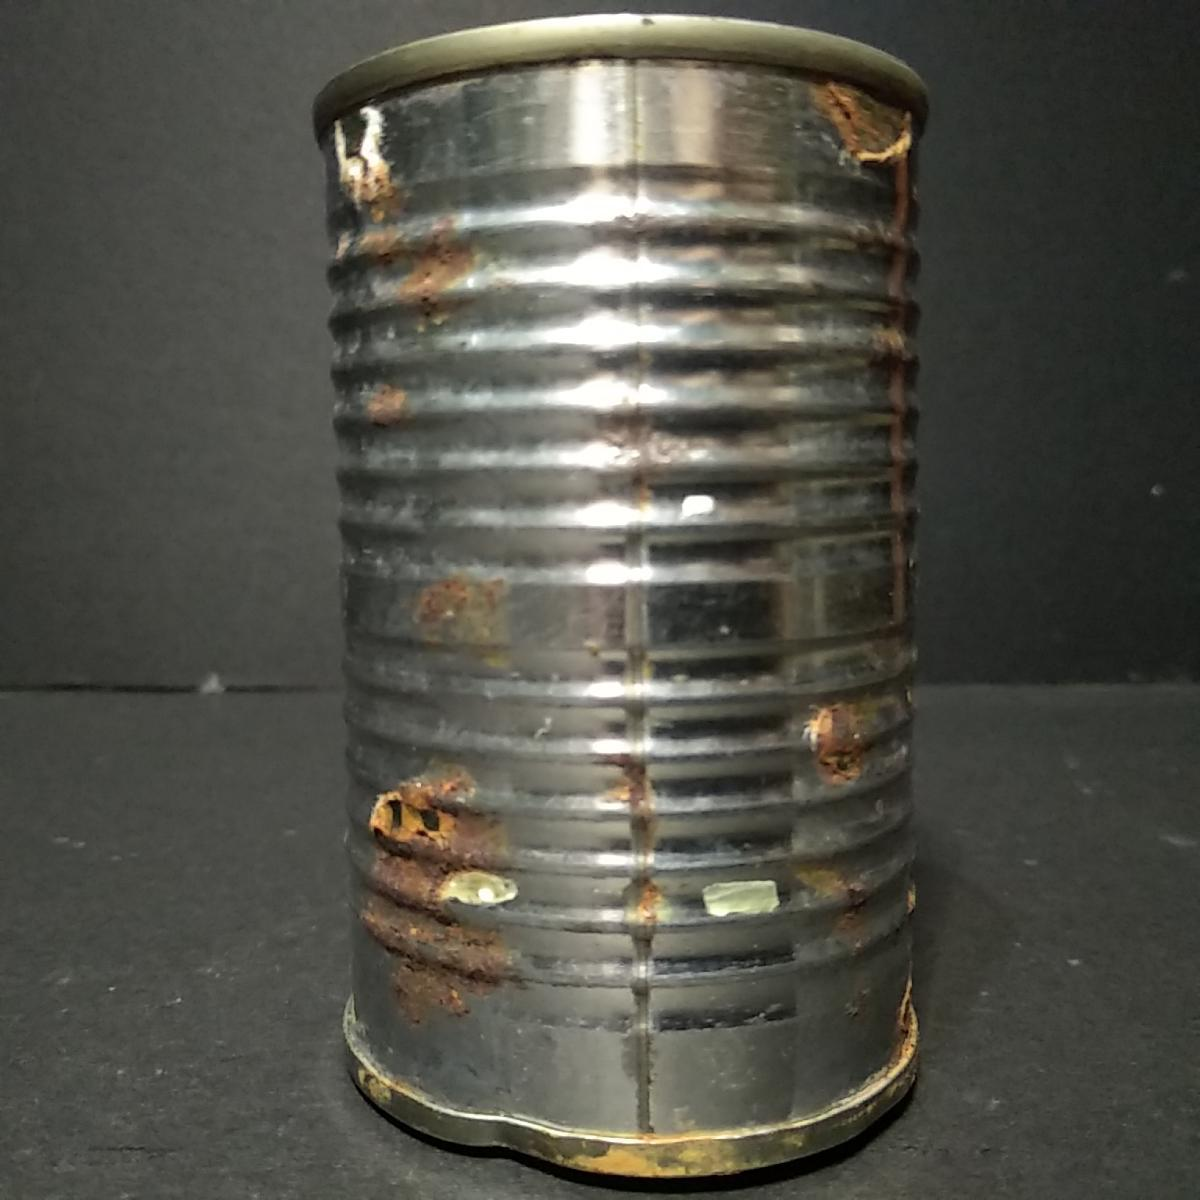Rusted: (304, 0, 948, 1200)
